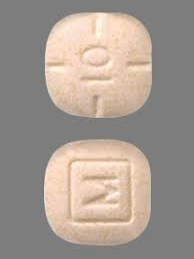Square: (43, 139, 150, 245), (45, 12, 152, 117)
